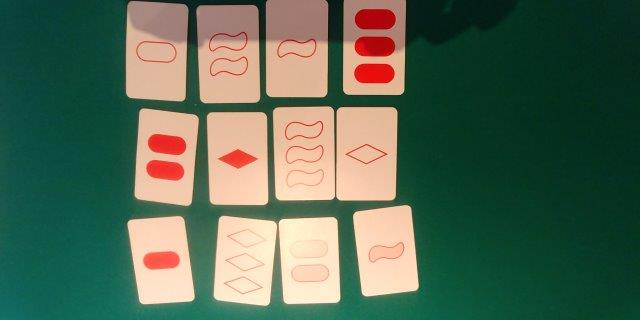1ED: (339, 109, 393, 198)
1EP: (131, 5, 182, 95)
1EW: (269, 1, 323, 95)
1FD: (211, 115, 263, 199)
1FP: (139, 221, 182, 298)
1HW: (362, 211, 410, 289)
2EW: (202, 7, 255, 100)
2FP: (139, 115, 190, 196)
2HP: (285, 220, 335, 301)
3ED: (219, 221, 269, 301)
3EW: (278, 108, 331, 198)
3FP: (346, 1, 402, 90)
